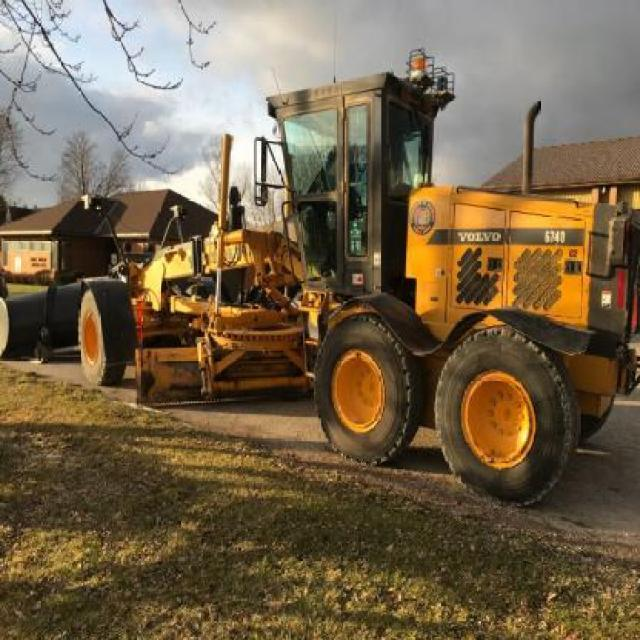Grader: (77, 44, 636, 508)
